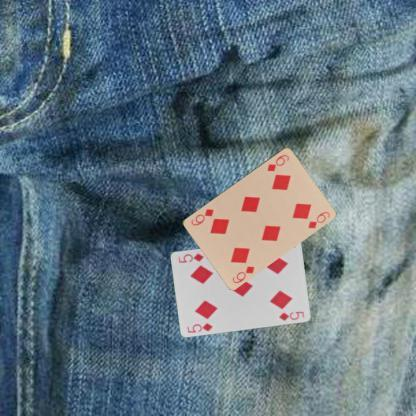5d: (185, 320, 214, 334)
6d: (229, 262, 256, 284), (264, 152, 290, 173)
